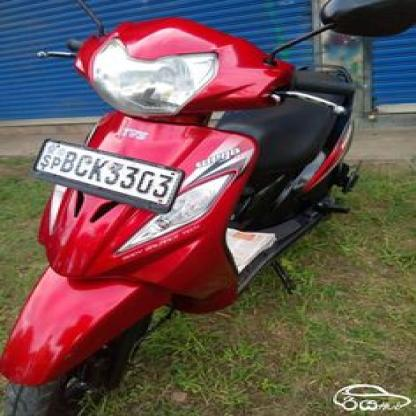bike front: (0, 0, 407, 416)
number plate: (37, 150, 176, 198)
